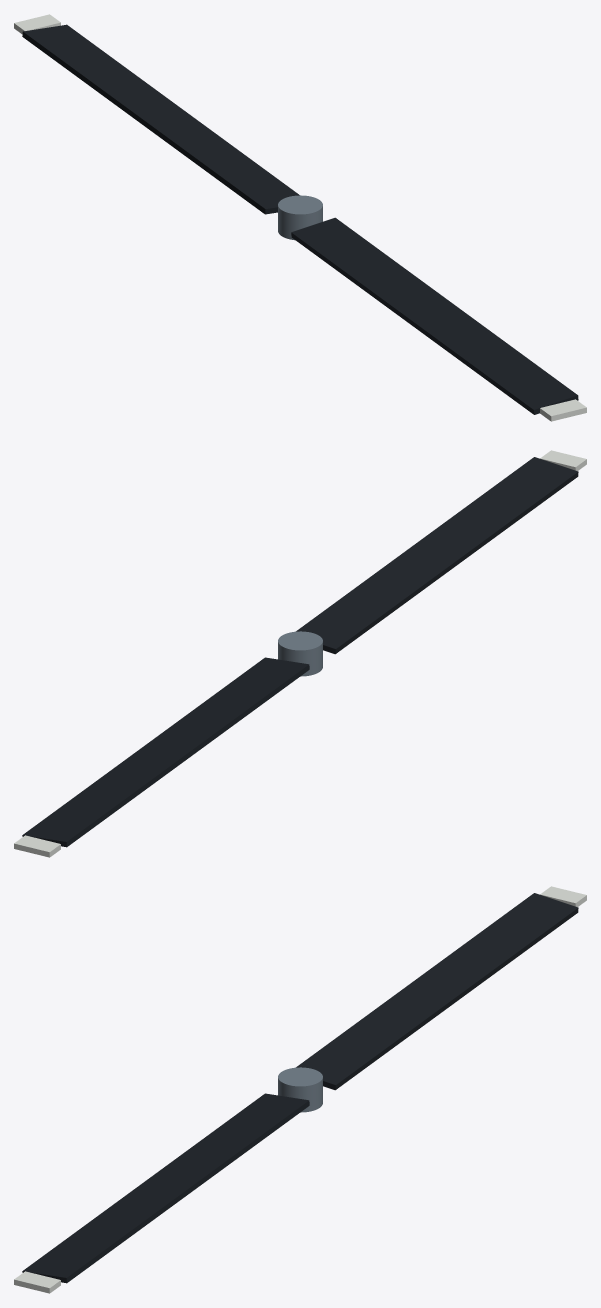
File: ingenuity.rotor_01.glb
The picture shows the model from 3 angles, top to bottom: view 1: azimuth 30°, elevation 25°; view 2: azimuth 150°, elevation 25°; view 3: azimuth 330°, elevation 25°; orthographic projection.
Visible parts, largest first — view 1: ingenuity.rotor_01.blade_b.mesh_Carbon_composite, ingenuity.rotor_01.blade_a.mesh_Carbon_composite, ingenuity.rotor_01.mesh_Machined_steel, ingenuity.rotor_01.blade_b.mesh_Pale_thermal_blanket, ingenuity.rotor_01.blade_a.mesh_Pale_thermal_blanket; view 2: ingenuity.rotor_01.blade_b.mesh_Carbon_composite, ingenuity.rotor_01.blade_a.mesh_Carbon_composite, ingenuity.rotor_01.mesh_Machined_steel, ingenuity.rotor_01.blade_a.mesh_Pale_thermal_blanket, ingenuity.rotor_01.blade_b.mesh_Pale_thermal_blanket; view 3: ingenuity.rotor_01.blade_a.mesh_Carbon_composite, ingenuity.rotor_01.blade_b.mesh_Carbon_composite, ingenuity.rotor_01.mesh_Machined_steel, ingenuity.rotor_01.blade_b.mesh_Pale_thermal_blanket, ingenuity.rotor_01.blade_a.mesh_Pale_thermal_blanket.
Part boxes in pixels (x1=…): ingenuity.rotor_01.blade_b.mesh_Carbon_composite: x1=291, y1=217, x2=578, y2=414; ingenuity.rotor_01.blade_a.mesh_Carbon_composite: x1=22, y1=24, x2=299, y2=214; ingenuity.rotor_01.mesh_Machined_steel: x1=278, y1=195, x2=322, y2=240; ingenuity.rotor_01.blade_b.mesh_Pale_thermal_blanket: x1=540, y1=399, x2=586, y2=421; ingenuity.rotor_01.blade_a.mesh_Pale_thermal_blanket: x1=14, y1=14, x2=60, y2=34; ingenuity.rotor_01.blade_b.mesh_Carbon_composite: x1=296, y1=457, x2=578, y2=654; ingenuity.rotor_01.blade_a.mesh_Carbon_composite: x1=22, y1=657, x2=309, y2=847; ingenuity.rotor_01.mesh_Machined_steel: x1=278, y1=631, x2=322, y2=676; ingenuity.rotor_01.blade_a.mesh_Pale_thermal_blanket: x1=14, y1=835, x2=60, y2=857; ingenuity.rotor_01.blade_b.mesh_Pale_thermal_blanket: x1=540, y1=450, x2=586, y2=470; ingenuity.rotor_01.blade_a.mesh_Carbon_composite: x1=296, y1=893, x2=578, y2=1090; ingenuity.rotor_01.blade_b.mesh_Carbon_composite: x1=22, y1=1093, x2=309, y2=1283; ingenuity.rotor_01.mesh_Machined_steel: x1=278, y1=1067, x2=322, y2=1112; ingenuity.rotor_01.blade_b.mesh_Pale_thermal_blanket: x1=14, y1=1271, x2=60, y2=1293; ingenuity.rotor_01.blade_a.mesh_Pale_thermal_blanket: x1=540, y1=886, x2=586, y2=906.
Bounding box in the file's own units: 0.0573 × 0.032 × 1.19.
